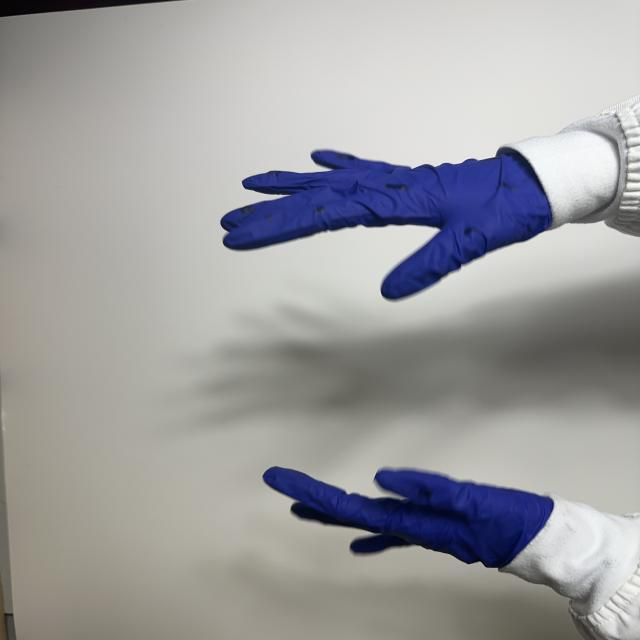gloves_contaminated: (221, 152, 551, 299), (263, 467, 552, 568)
